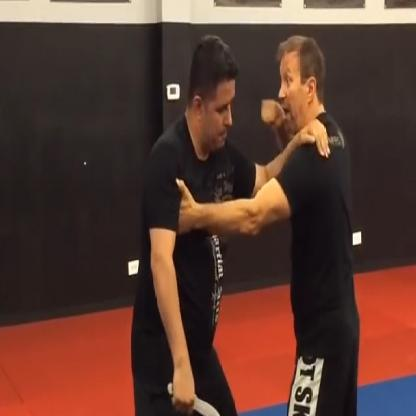knife: (161, 372, 229, 415)
